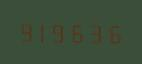nine: (17, 19, 33, 43), (52, 19, 68, 43)
one: (34, 19, 50, 43)
six: (69, 19, 85, 44), (103, 20, 119, 44)
three: (86, 20, 102, 44)
